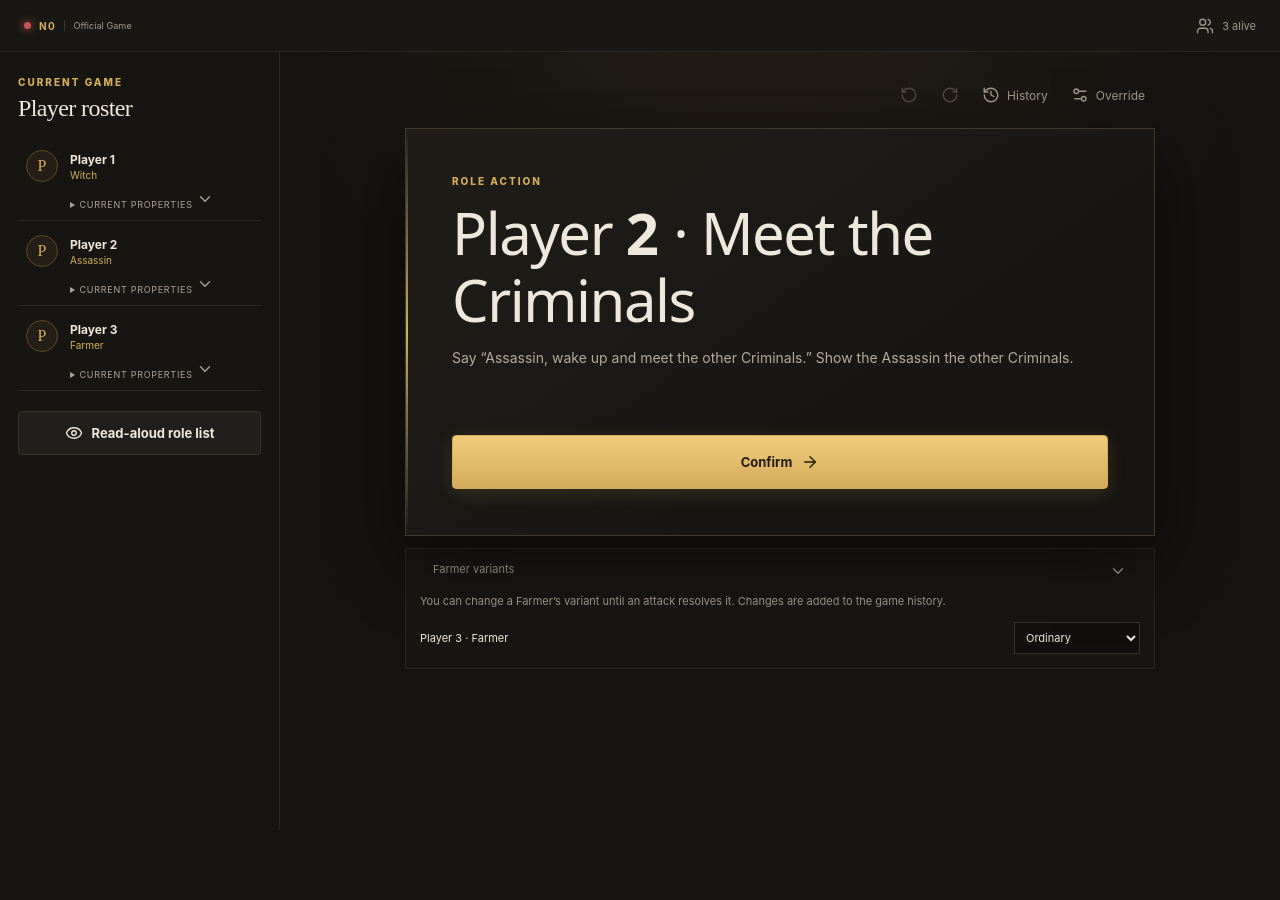
it: Audit: editor and setup interactions › resets the moderator ability choice when the selected player changes
The image size is (1280, 900).
Click the button "Override": (1108, 95) x1=1061 y1=76 x2=1155 y2=114
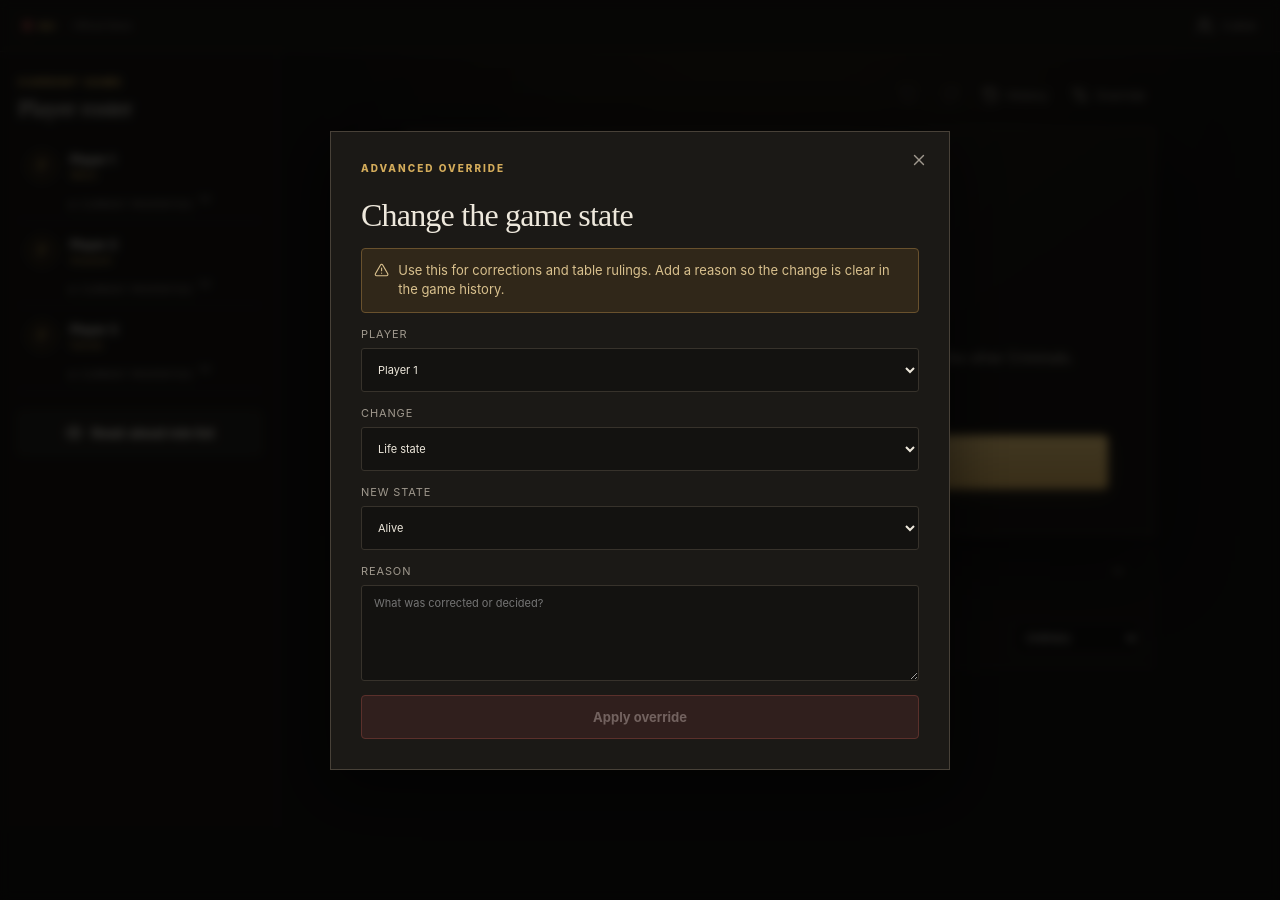
Select "Ability availability" in the dropdown labelled "Change": (640, 448) x1=361 y1=426 x2=919 y2=470
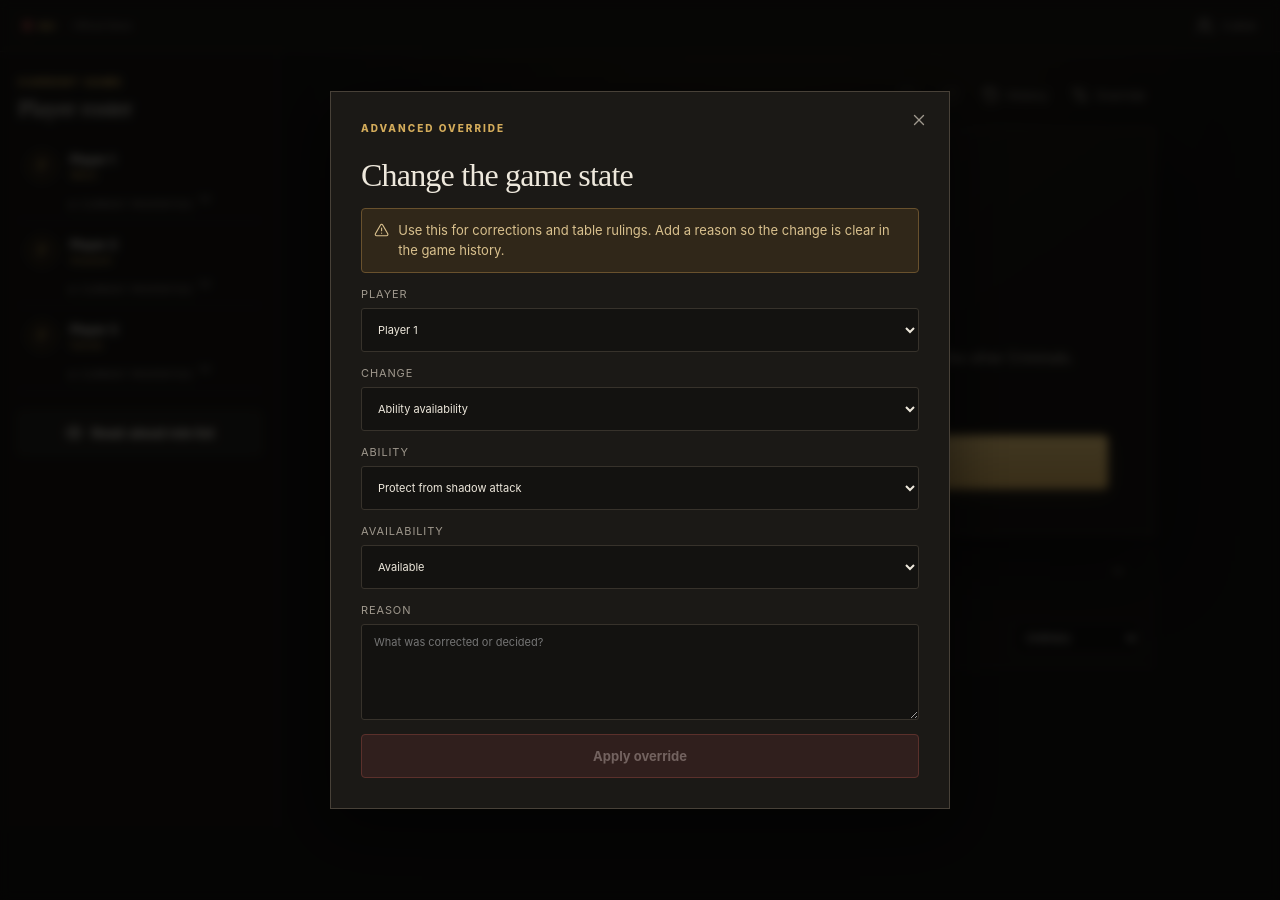
Select "Player 2" in the dropdown labelled "Player": (640, 330) x1=361 y1=308 x2=919 y2=352
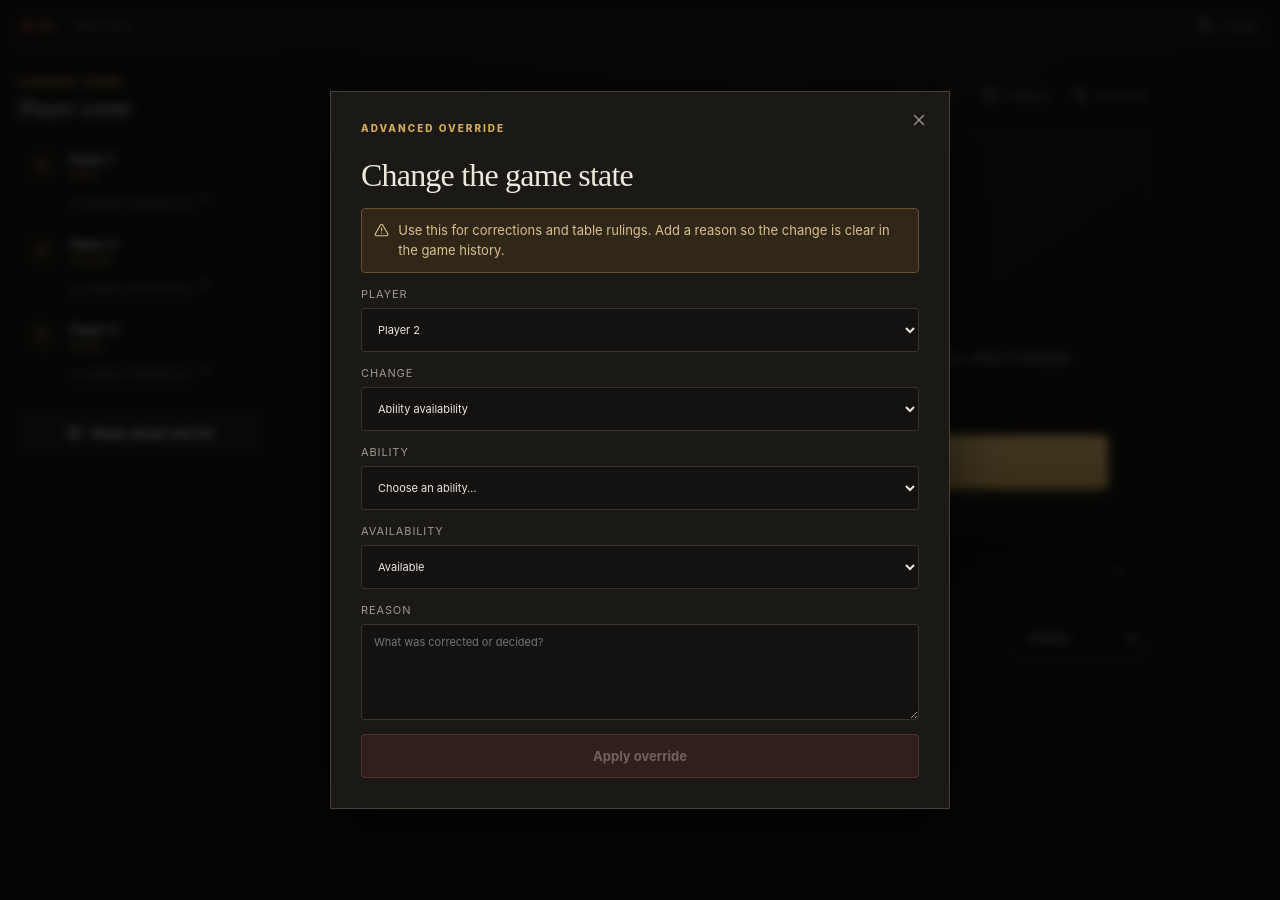
Expected: the dropdown labelled "Ability" shows "Choose an ability…", x1=361 y1=466 x2=919 y2=510
